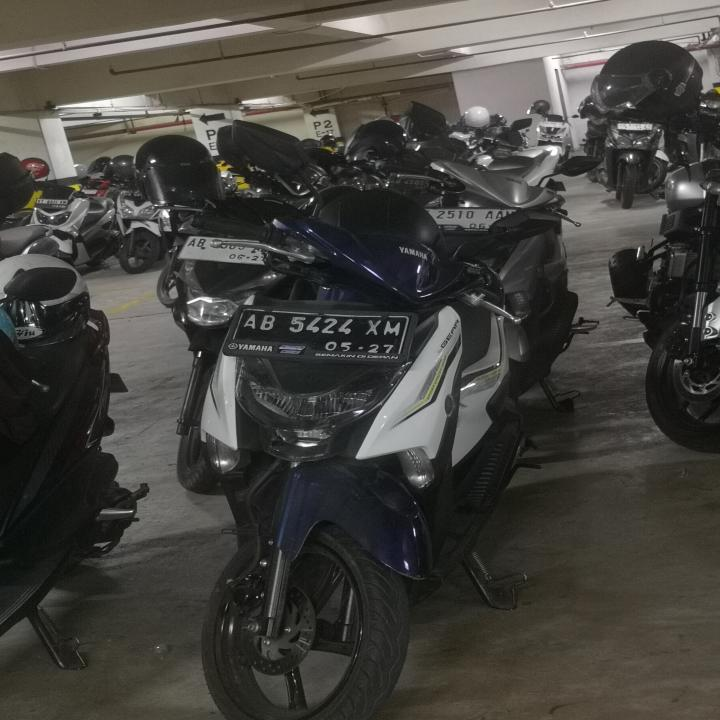plate: (230, 302, 411, 362), (175, 235, 266, 266), (424, 206, 521, 232)
